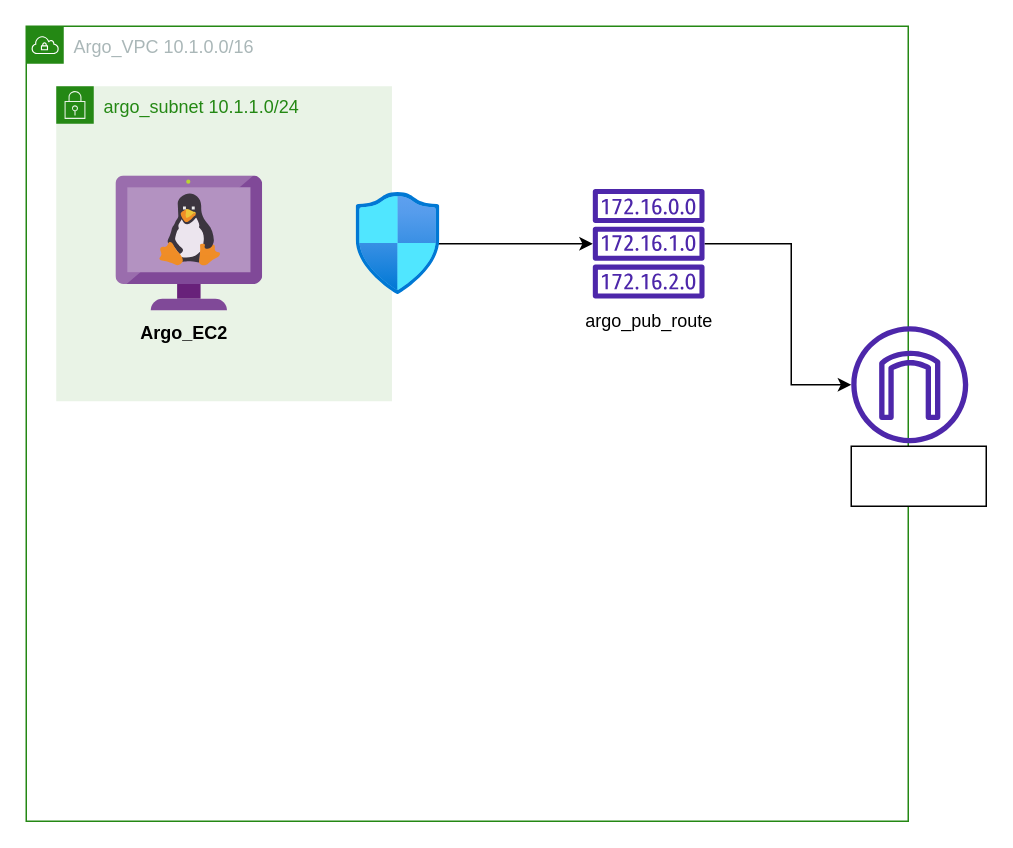
Some shapes in this 1013 by 848 pixel diagram are drawn without their labels. The shapes that lost their labels are listed below. From the top down, each one's centre as x and y in pixels, then its label:
[398,243]: Argo_SG
[918,475]: Internet Gateway
